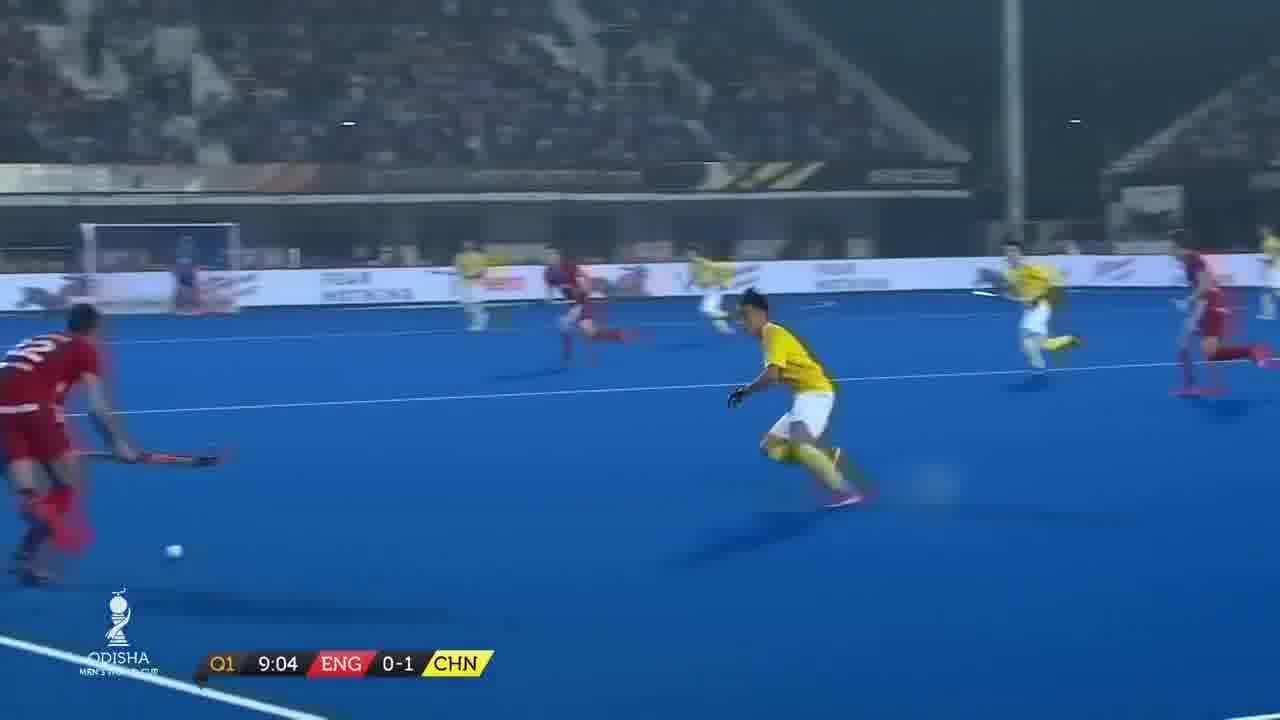ball: (164, 540, 186, 564)
